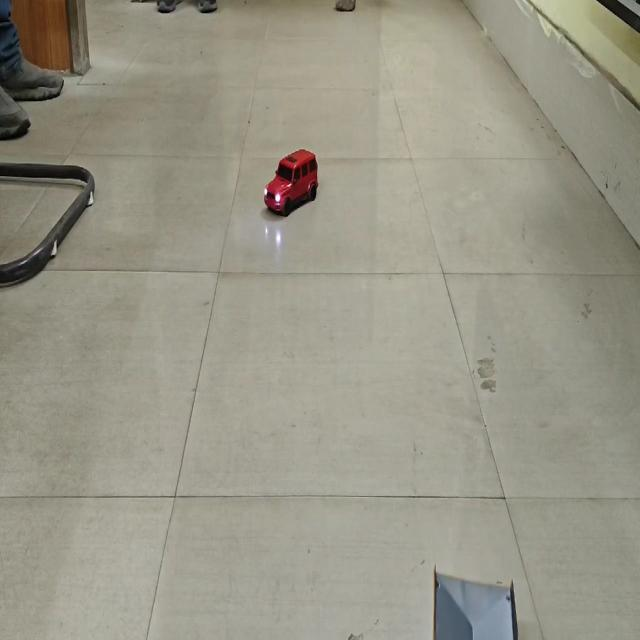dump_truck: (430, 563, 518, 640)
light_vehicle: (261, 144, 319, 217)
